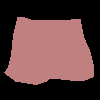shorts: (4, 16, 94, 84)
